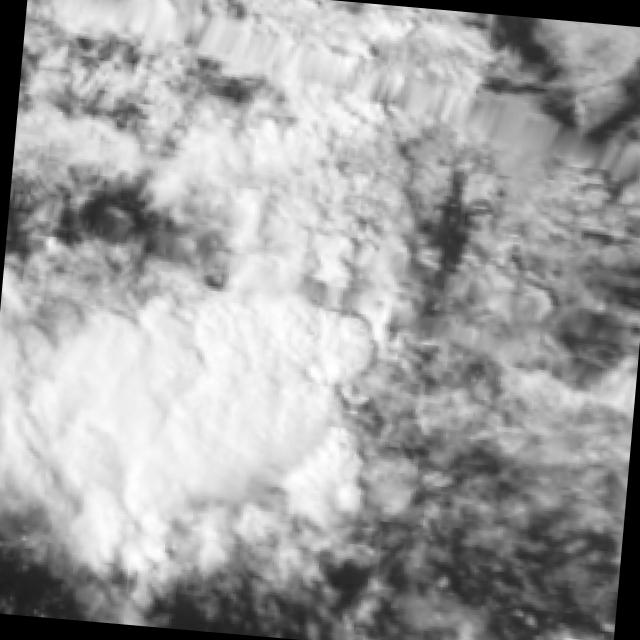CB: (87, 316, 272, 488)
